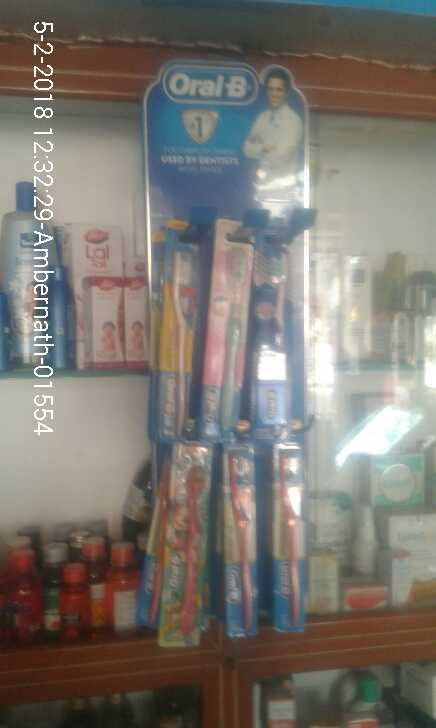oralb: (152, 232, 201, 439), (269, 447, 315, 636), (161, 462, 209, 640), (257, 234, 300, 416), (210, 240, 248, 437), (221, 449, 260, 636)
